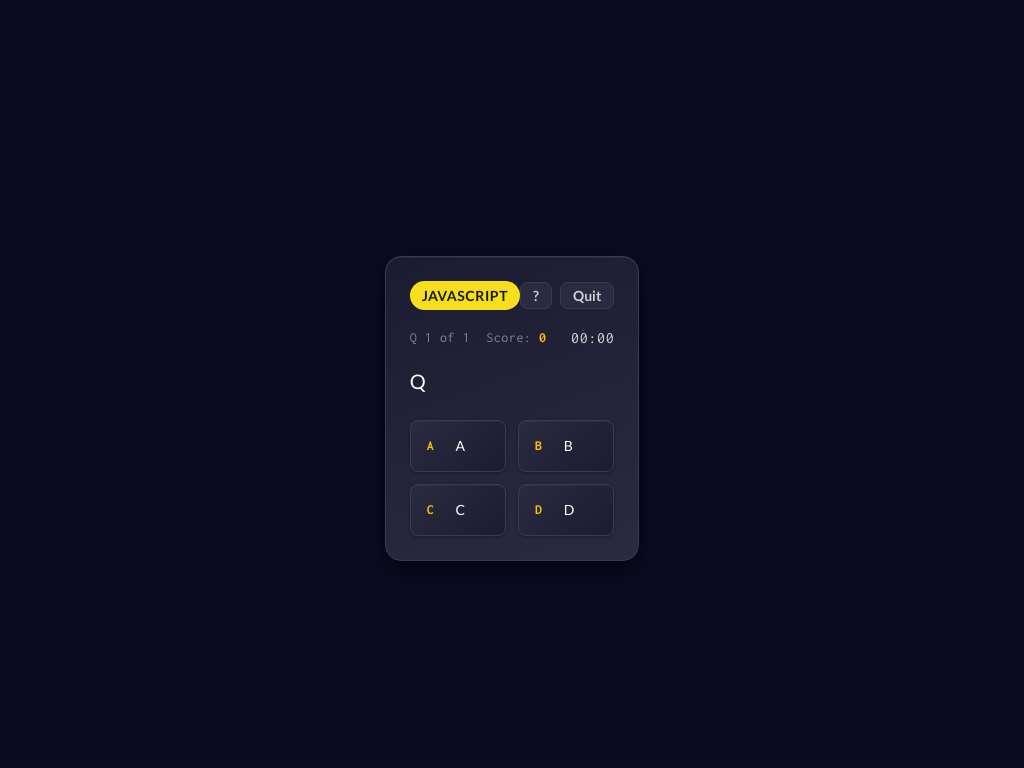
Test: App component › quit confirm modal appears when clicking quit during play
Click the button with aria-label "quit to home" at (587,295), box [560,282,614,308]
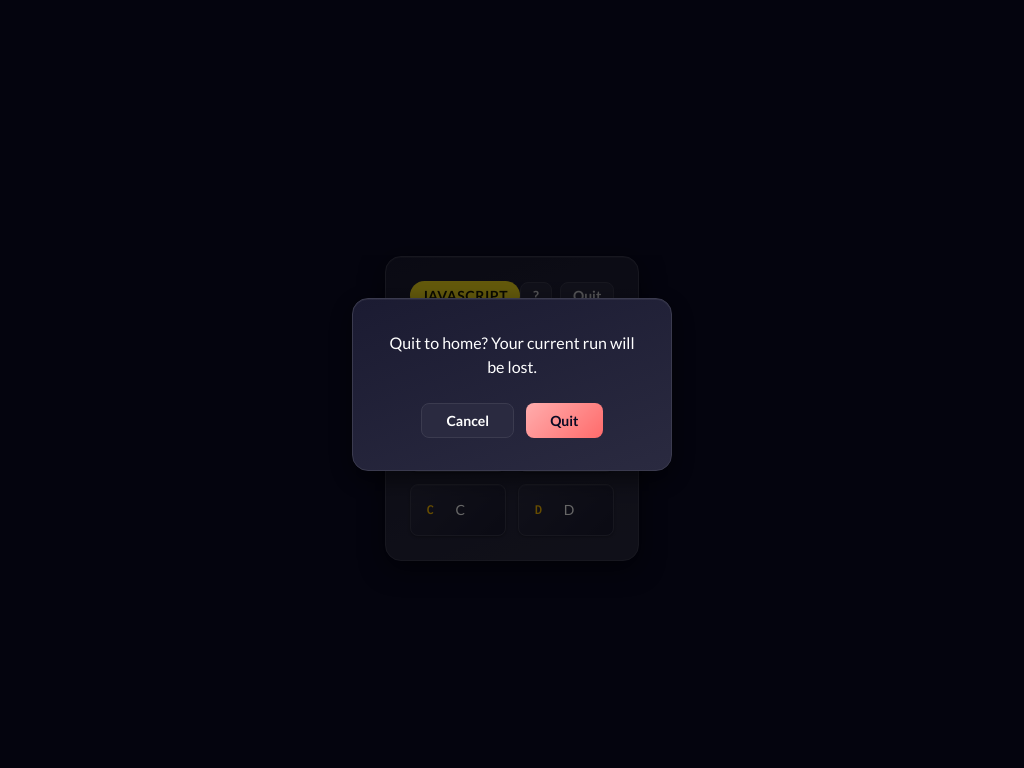
Expected: the dialog is shown
Expected: the text "Quit to home? Your current run will be lost." is shown, [385,330,639,378]
